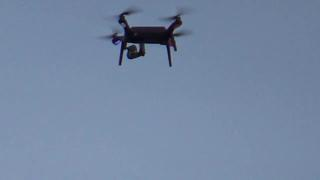UAV: (98, 4, 194, 68)
